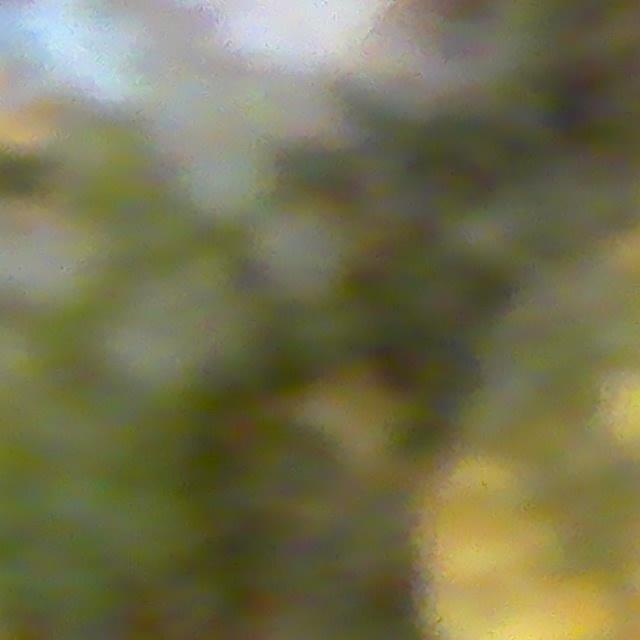SeaGrape: (250, 194, 362, 311), (178, 140, 276, 233)
